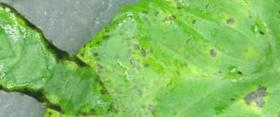Tomato leaf bacterial spot: (51, 0, 280, 117)
